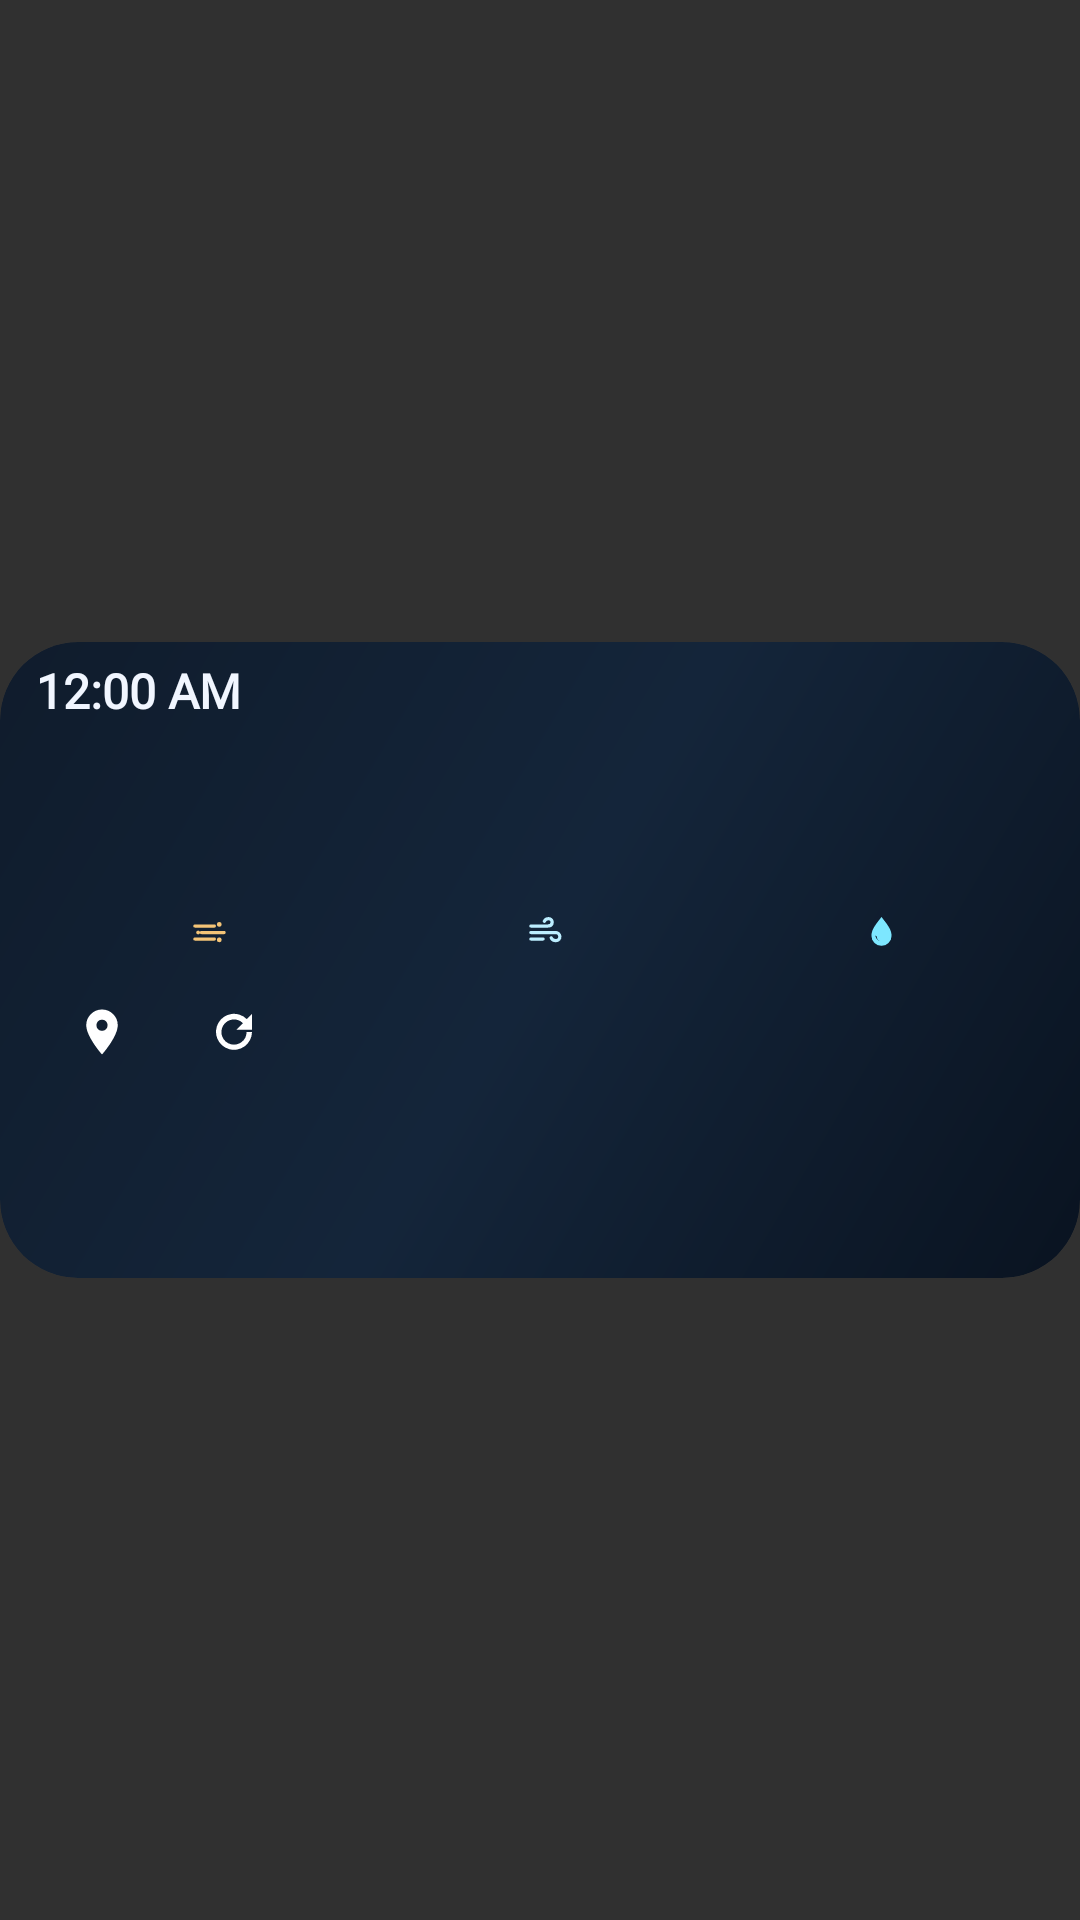

Screen size 1080px×1920px. Icon name, then its center in pixels as point (x, y):
LOCATE: point (102, 1031)
widget humidity: point (881, 931)
widget wind: point (545, 930)
نوێکردنەوەی کەشوھەوا: point (234, 1031)
